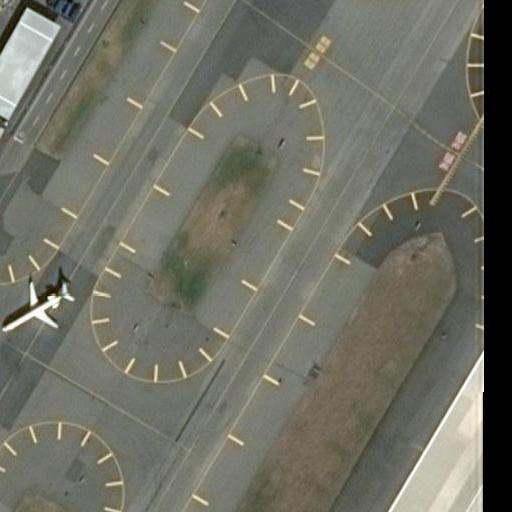Aircraft: (0, 269, 80, 342)
